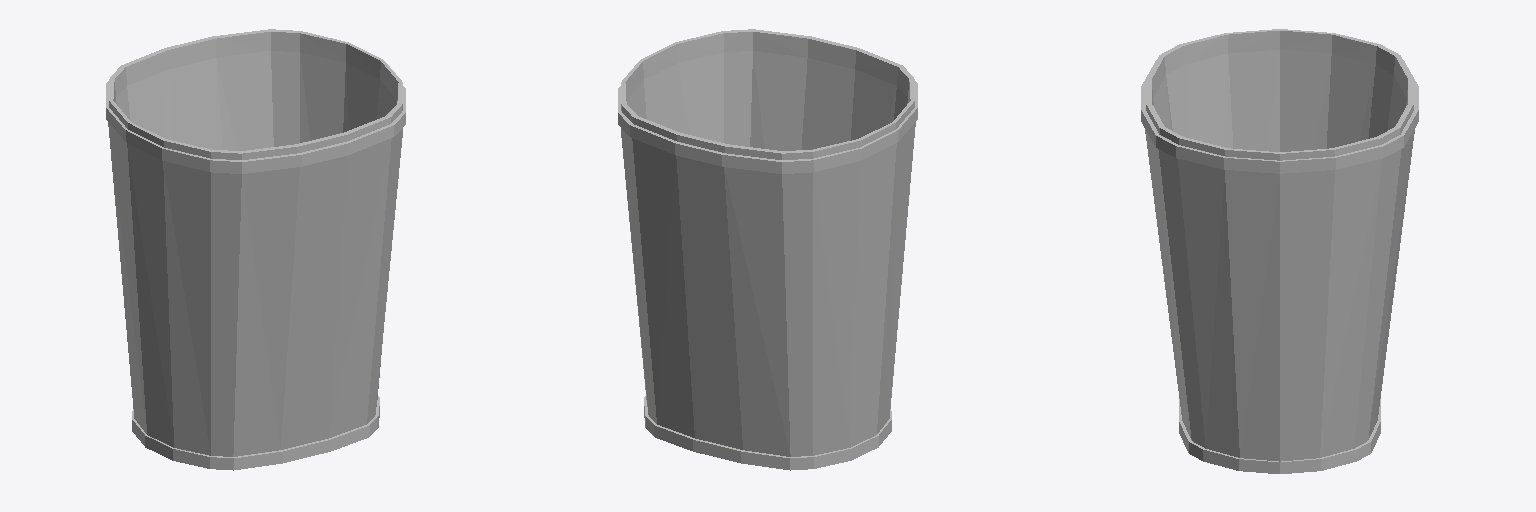
File: Trashcan_Small2.obj
The picture shows the model from 3 angles: view 1: azimuth 30°, elevation 25°; view 2: azimuth 150°, elevation 25°; view 3: azimuth 270°, elevation 25°; orthographic projection.
Visible parts, largest first — view 1: Trashcan_Small2; view 2: Trashcan_Small2; view 3: Trashcan_Small2.
Boxes of the visible parts, box(x1,y1,x2,y2) form: Trashcan_Small2: box(106, 29, 405, 470); Trashcan_Small2: box(618, 29, 917, 470); Trashcan_Small2: box(1141, 29, 1418, 473).
Size of the model in its own units: 0.4648 by 0.5603 by 0.4285.